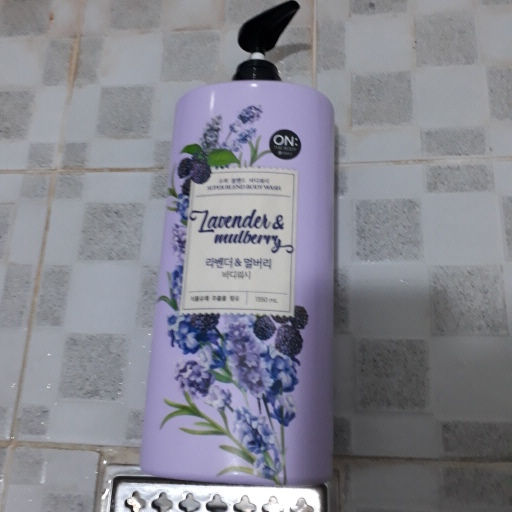Plastic_3: (135, 2, 334, 480)
